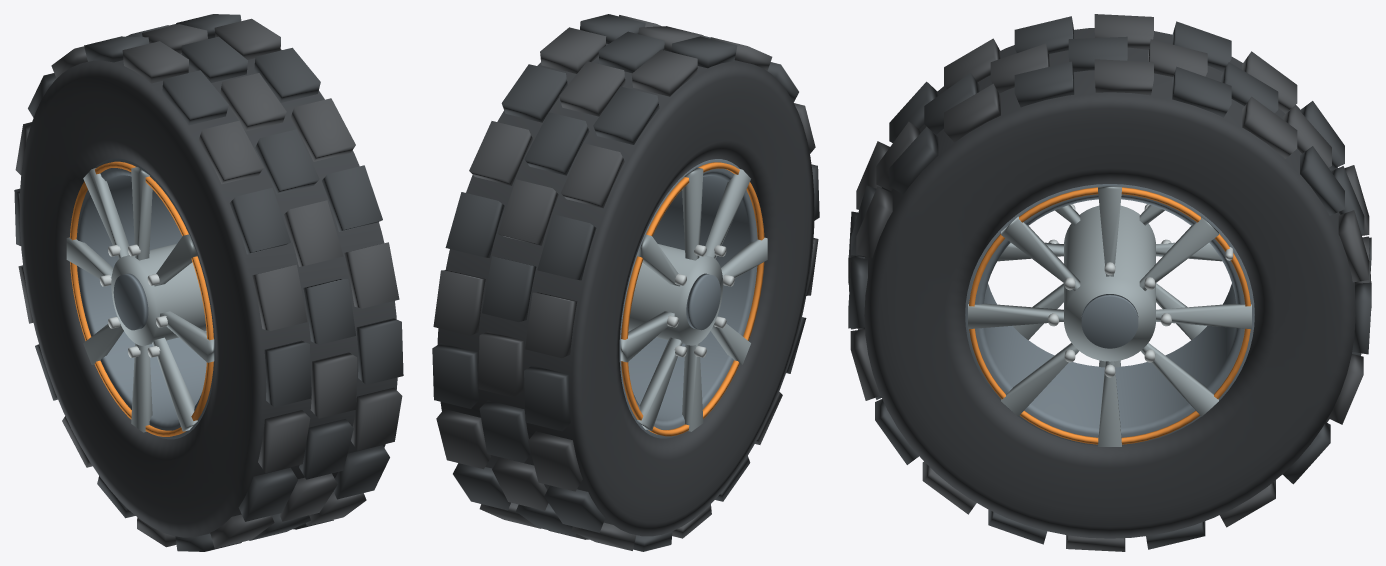
Rendered from M02-001_segmented_offroad_wheel.glb.
3 renders of one model, left to right at view 1: azimuth 30°, elevation 25°; view 2: azimuth 150°, elevation 25°; view 3: azimuth 270°, elevation 25°, orthographic.
Visible parts, largest first — view 1: WHEEL_ROTATOR; view 2: WHEEL_ROTATOR; view 3: WHEEL_ROTATOR.
Part boxes in pixels (left/top/right/bottom): WHEEL_ROTATOR: left=14, top=14, right=403, bottom=551; WHEEL_ROTATOR: left=432, top=14, right=819, bottom=551; WHEEL_ROTATOR: left=848, top=14, right=1371, bottom=551.
Size of the model in its own units: 0.384 by 1.07 by 1.07.
